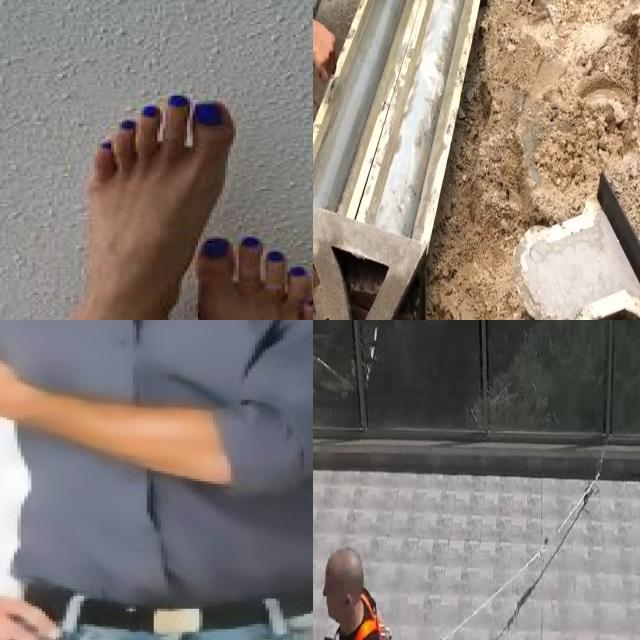Barefoots: (186, 236, 313, 320)
Harness: (354, 592, 379, 640)
hand_noglove: (313, 6, 335, 74)
